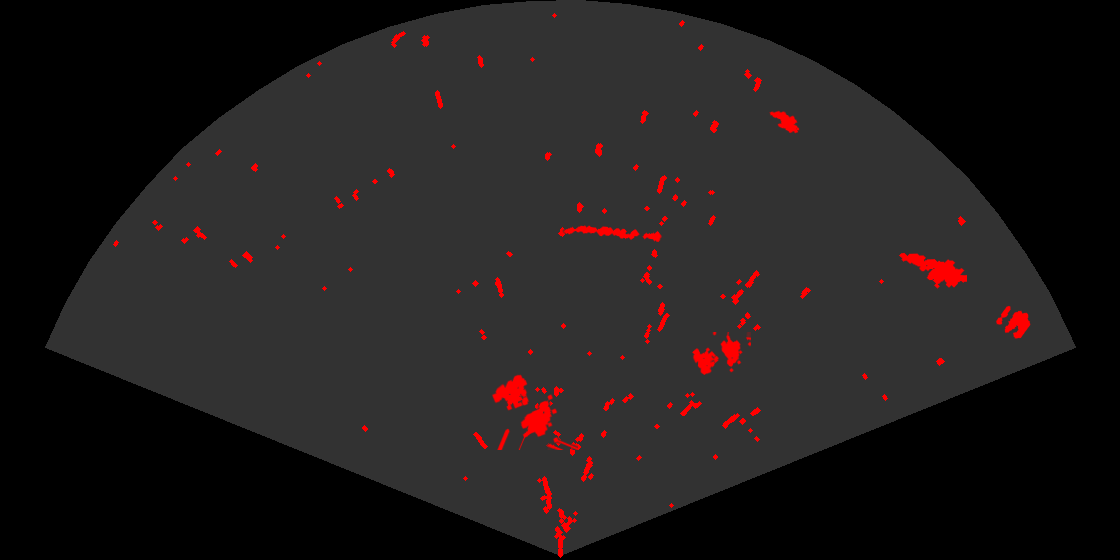AUV: (768, 109, 801, 135)
ball: (994, 304, 1032, 340)
cage: (490, 373, 578, 450), (690, 332, 751, 376)
chain: (562, 224, 664, 244)
frogman: (898, 251, 967, 290)
